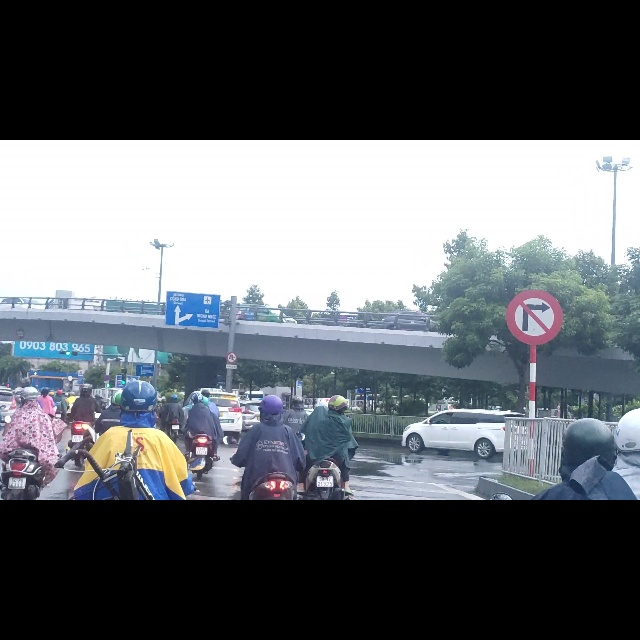bien_chi_dan: (505, 267, 564, 371), (227, 376, 237, 396)
